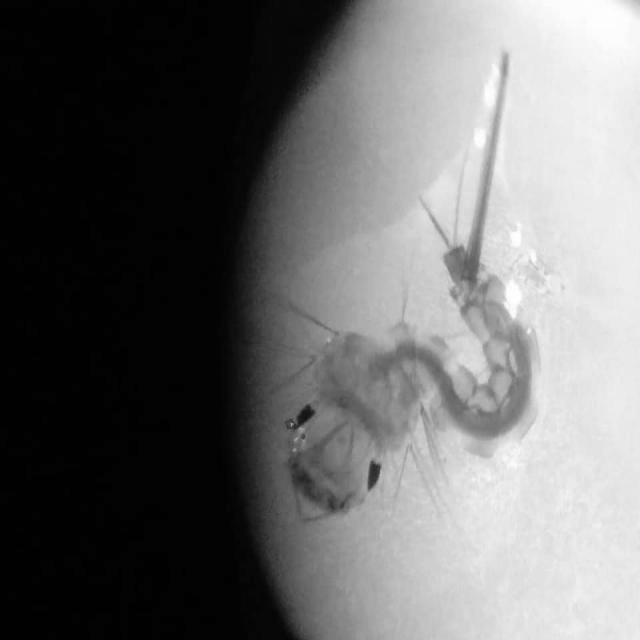larvas: (288, 60, 535, 527)
